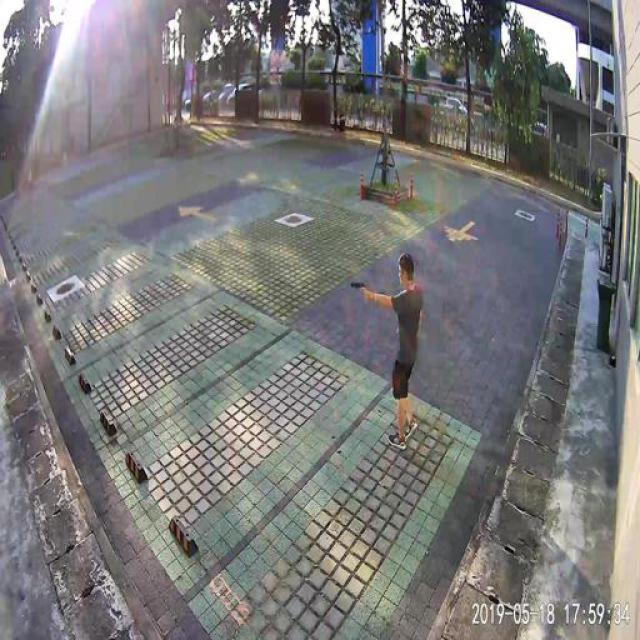weapon: (350, 282, 368, 290)
